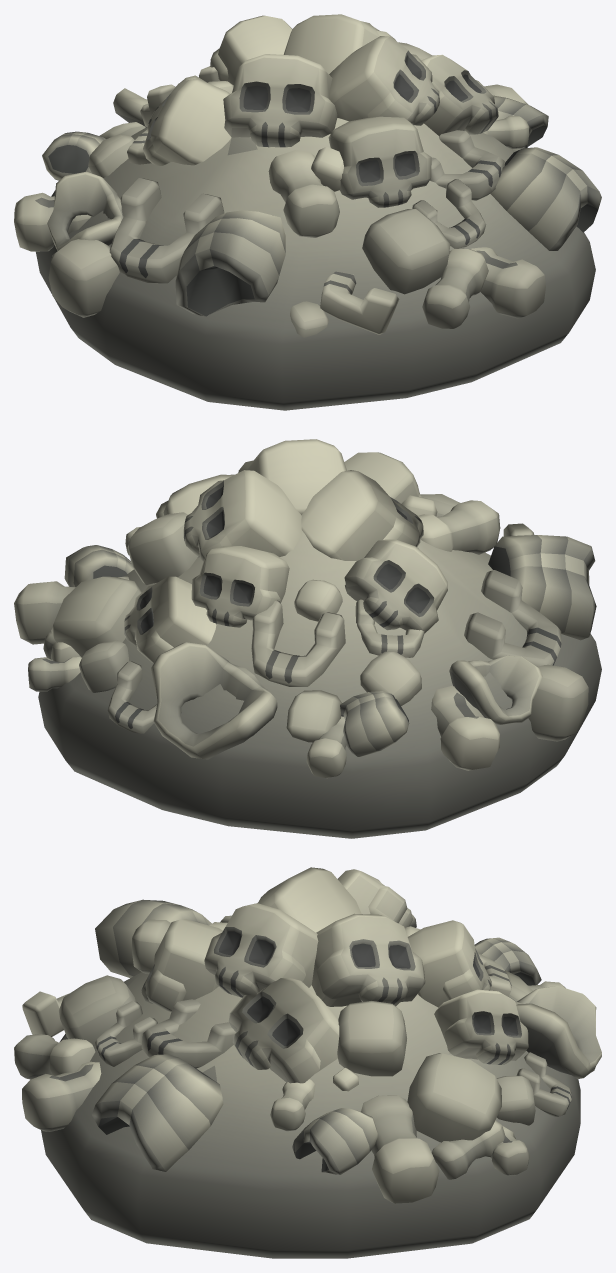
The model's file is skull_pile_large.fbx.
The picture shows the model from 3 angles, top to bottom: view 1: azimuth 30°, elevation 25°; view 2: azimuth 150°, elevation 25°; view 3: azimuth 270°, elevation 25°; orthographic projection. The views are drawn at different scales.
Parts seen in each view (by area): view 1: skull_pile_large; view 2: skull_pile_large; view 3: skull_pile_large.
Boxes of the visible parts, bbox=[...] form: skull_pile_large: bbox=[14, 14, 601, 410]; skull_pile_large: bbox=[14, 439, 601, 838]; skull_pile_large: bbox=[14, 867, 601, 1258].
Size of the model in its own units: 321 by 154 by 312.
